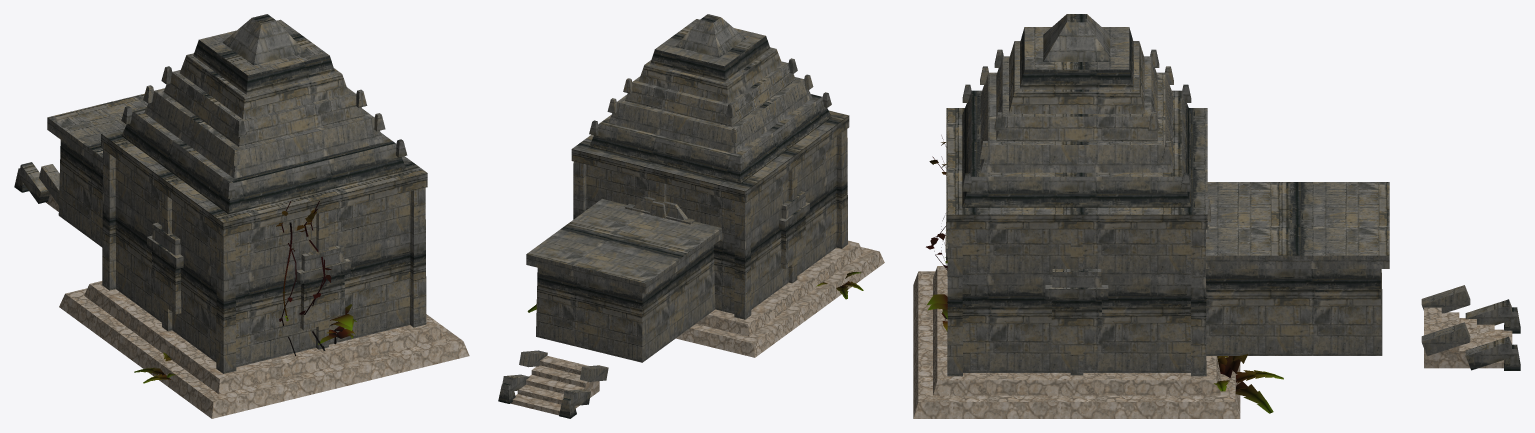
The model's file is prasat_intact_02.glb.
3 views of the same model, side by side, from view 1: azimuth 30°, elevation 25°; view 2: azimuth 150°, elevation 25°; view 3: azimuth 270°, elevation 25° (orthographic). The views are drawn at different scales.
Visible parts, largest first — view 1: prasat_intact_02, prasat_intact_02_veg_06_bush_b, prasat_intact_02_veg_00_trunk_vine_a; view 2: prasat_intact_02; view 3: prasat_intact_02, prasat_intact_02_veg_05_fern_c.
Boxes of the visible parts, left/top/right/bottom form: prasat_intact_02: left=14, top=14, right=469, bottom=418; prasat_intact_02_veg_06_bush_b: left=318, top=304, right=356, bottom=344; prasat_intact_02_veg_00_trunk_vine_a: left=296, top=209, right=331, bottom=350; prasat_intact_02: left=498, top=14, right=884, bottom=418; prasat_intact_02: left=913, top=14, right=1520, bottom=418; prasat_intact_02_veg_05_fern_c: left=1214, top=353, right=1283, bottom=413.
Size of the model in its own units: 7.03 by 7.54 by 12.38.
Materials: 8 (8 with a texture image).
